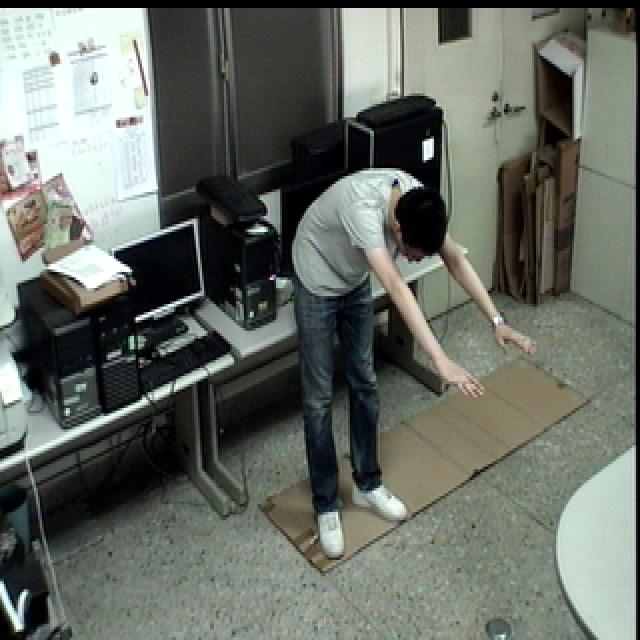bend: (284, 155, 539, 564)
